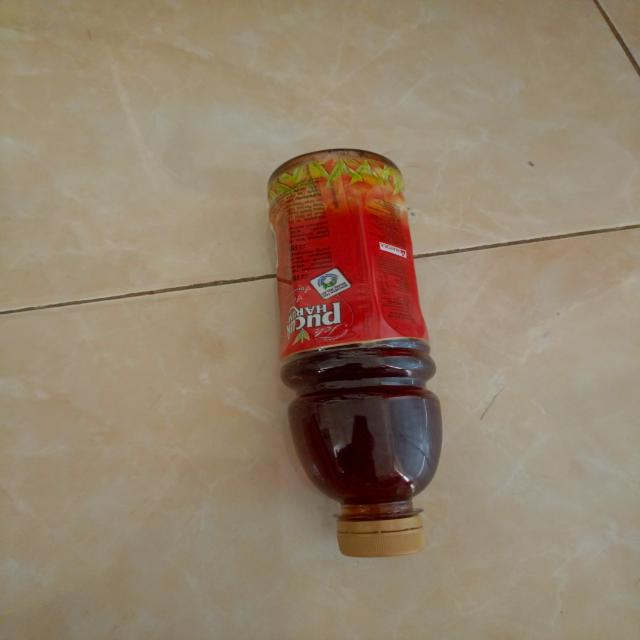teh-pucuk: (268, 147, 446, 558)
